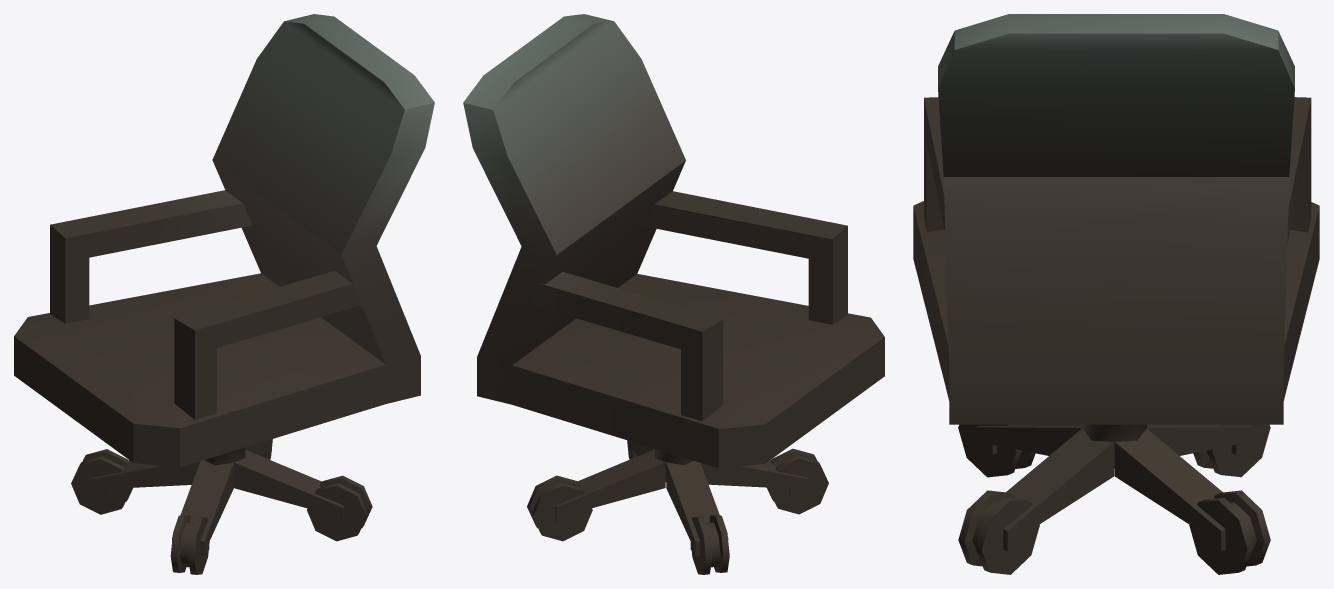
Rendered from chair.fbx.
The picture shows the model from 3 angles, left to right: view 1: azimuth 30°, elevation 25°; view 2: azimuth 150°, elevation 25°; view 3: azimuth 270°, elevation 25°; orthographic projection. The views are drawn at different scales.
Parts seen in each view (by area): view 1: ST_chair; view 2: ST_chair; view 3: ST_chair.
Boxes of the visible parts, x1,y1,x2,y2 form: ST_chair: (14, 14, 434, 574); ST_chair: (463, 14, 884, 574); ST_chair: (913, 14, 1319, 574).
Size of the model in its own units: 77.21 by 108 by 67.56.
